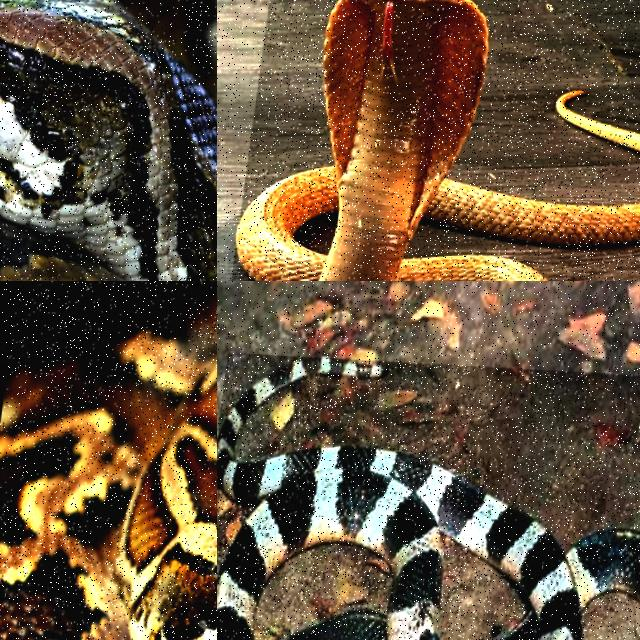Bungarus candidus: (217, 358, 639, 639)
Naja kaouthia: (237, 0, 639, 280)
Python bivittatus: (0, 281, 216, 639), (0, 0, 216, 280)
snake: (217, 358, 639, 639), (237, 0, 639, 280), (0, 281, 216, 639), (0, 0, 216, 280)
